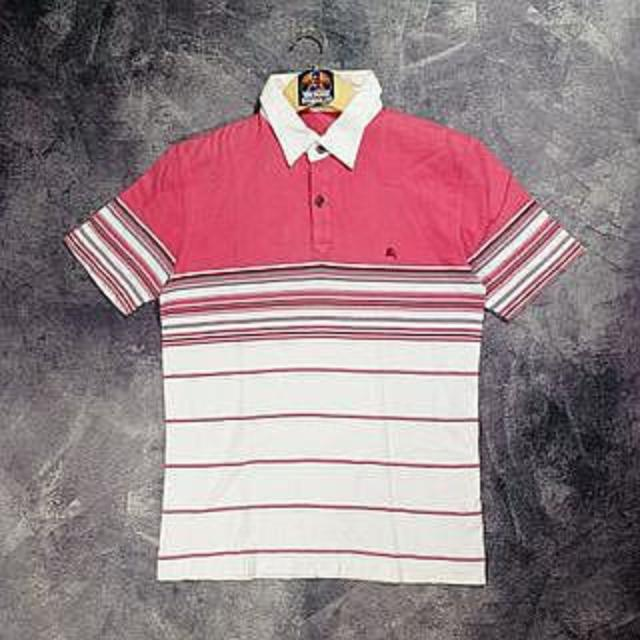T_SHIRT: (52, 62, 600, 600)
